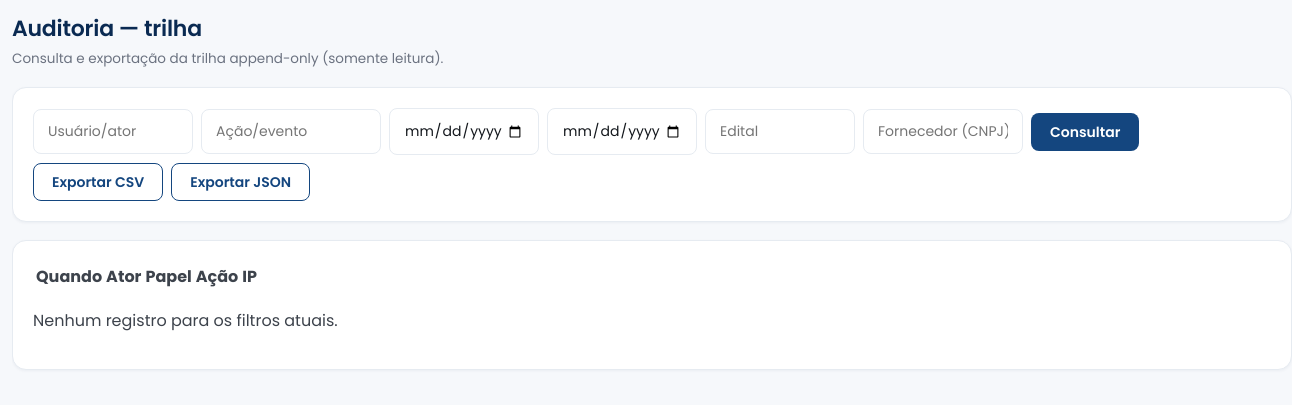
Test: ConsultaAuditoria — trilha (UC012) › erro 403 na exportação vira mensagem de acesso restrito (não navega)
The image size is (1292, 405).
Click the button with test id "exportar-json": (241, 182) x1=171 y1=163 x2=310 y2=201
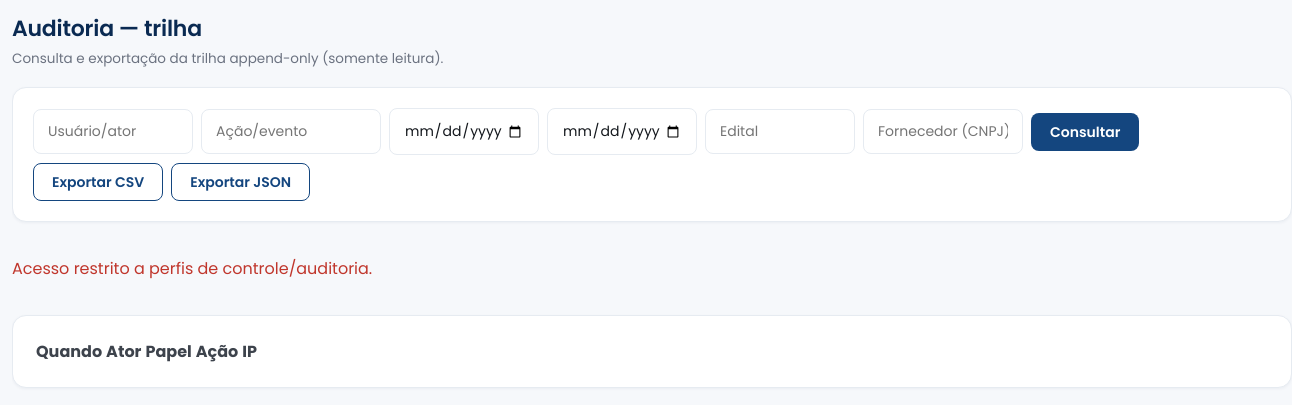
Result: the message with test id "erro" reads "Acesso restrito a perfis de controle/auditoria." at x1=12 y1=257 x2=372 y2=280
